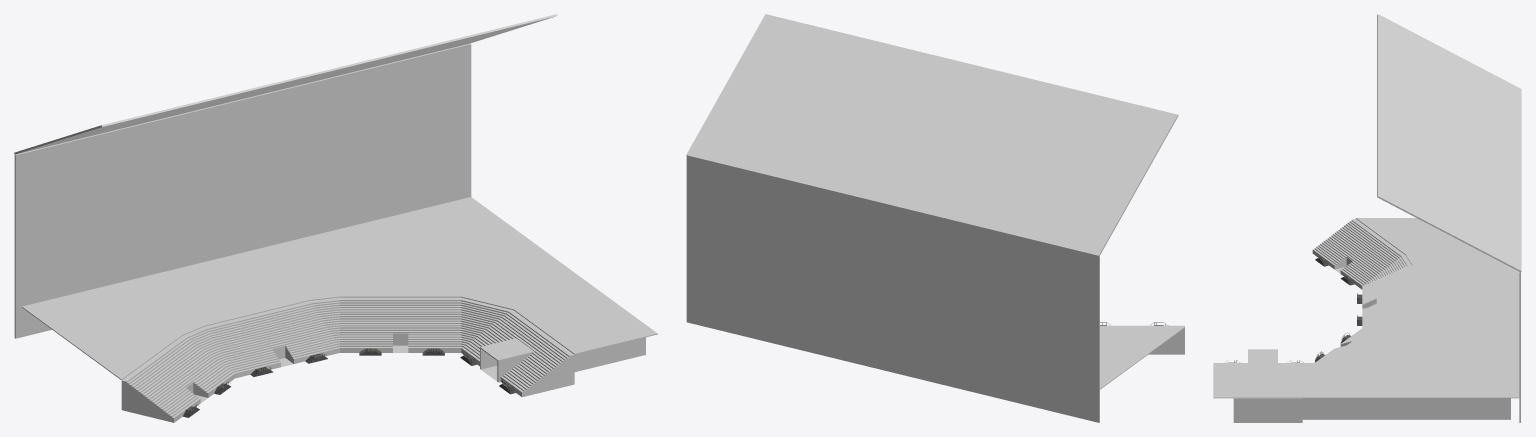
Rendered from Stand_N_Hall.fbx.
3 views of the same model, side by side, from view 1: azimuth 30°, elevation 25°; view 2: azimuth 150°, elevation 25°; view 3: azimuth 270°, elevation 25° (orthographic). The views are drawn at different scales.
Visible parts, largest first — view 1: Wall, Stand_celing, Stand_body, Celing, FinalHall; view 2: Wall, Celing, Stand_celing, Stand_body; view 3: Stand_celing, Celing, Stand_body, Hall, FinalHall, RestroomHall, Wall.
Part boxes in pixels (bbox=[...]): Wall: bbox=[14, 43, 471, 338]; Stand_celing: bbox=[22, 197, 657, 380]; Stand_body: bbox=[121, 297, 574, 422]; Celing: bbox=[14, 14, 557, 154]; FinalHall: bbox=[574, 337, 645, 371]; Wall: bbox=[686, 156, 1099, 422]; Celing: bbox=[686, 14, 1178, 256]; Stand_celing: bbox=[1100, 327, 1184, 389]; Stand_body: bbox=[1100, 325, 1184, 354]; Stand_celing: bbox=[1213, 218, 1519, 398]; Celing: bbox=[1377, 14, 1521, 272]; Stand_body: bbox=[1213, 219, 1412, 364]; Hall: bbox=[1302, 398, 1455, 419]; FinalHall: bbox=[1233, 398, 1302, 422]; RestroomHall: bbox=[1456, 398, 1510, 419]; Wall: bbox=[1519, 272, 1520, 422].
Bounding box in the file's own units: 14058 × 8147 × 10047.
